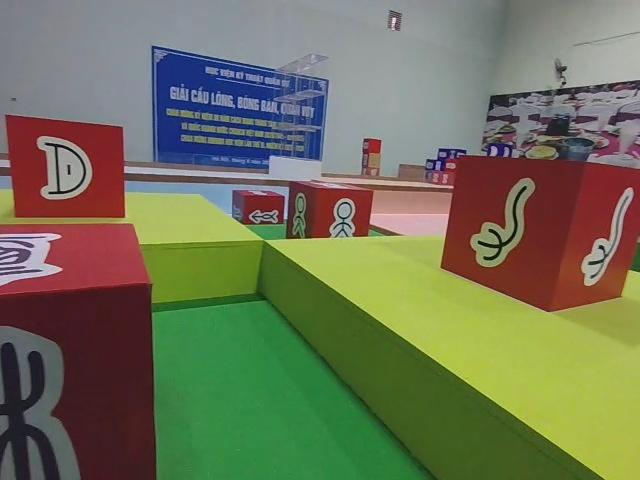R2 Fake: (0, 220, 159, 480)
R2 Real: (438, 151, 640, 315), (0, 110, 127, 221), (282, 177, 377, 248), (230, 188, 286, 230)
